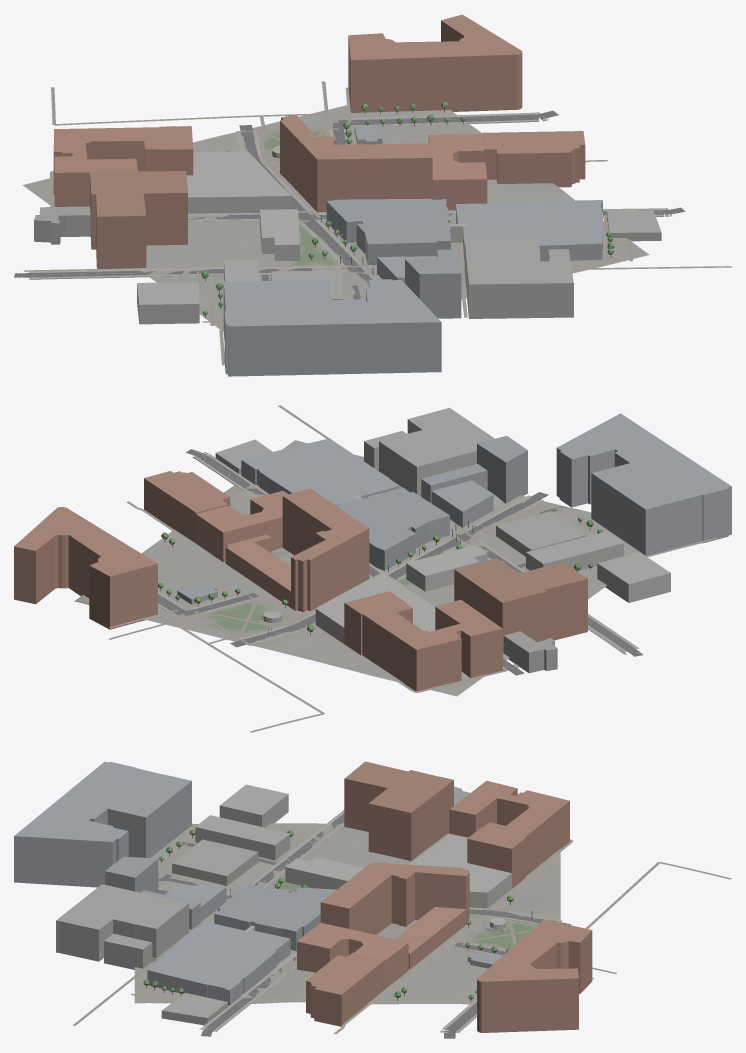
The model's file is tile_-1_2.glb.
3 views of the same model, one above another, from view 1: azimuth 30°, elevation 25°; view 2: azimuth 150°, elevation 25°; view 3: azimuth 270°, elevation 25° (orthographic). The views are drawn at different scales.
Visible parts, largest first — view 1: buildings, terrain, roads, paths, sidewalks, props; view 2: buildings, terrain, paths, roads, sidewalks, props; view 3: buildings, terrain, paths, roads, sidewalks, props.
Part boxes in pixels (bbox=[...]): buildings: bbox=[34, 14, 661, 376]; terrain: bbox=[23, 105, 649, 331]; roads: bbox=[14, 110, 685, 299]; paths: bbox=[24, 81, 731, 365]; sidewalks: bbox=[28, 112, 672, 287]; props: bbox=[201, 102, 614, 317]; buildings: bbox=[14, 407, 731, 691]; terrain: bbox=[74, 440, 649, 696]; paths: bbox=[108, 405, 717, 732]; roads: bbox=[158, 449, 642, 675]; sidewalks: bbox=[158, 452, 639, 671]; props: bbox=[158, 517, 608, 635]; buildings: bbox=[14, 761, 592, 1032]; terrain: bbox=[134, 823, 560, 1004]; paths: bbox=[72, 823, 731, 1034]; roads: bbox=[152, 813, 570, 1038]; sidewalks: bbox=[158, 810, 560, 1033]; props: bbox=[143, 817, 532, 1001].
Bounding box in the file's own units: 370 × 35 × 431.
